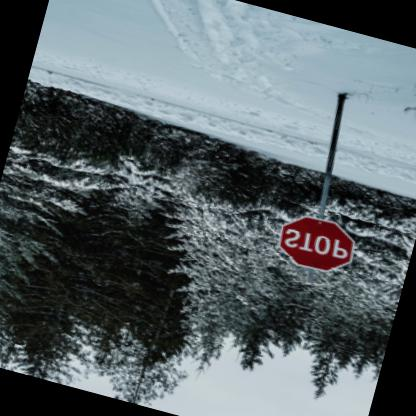stop: (270, 209, 358, 278)
